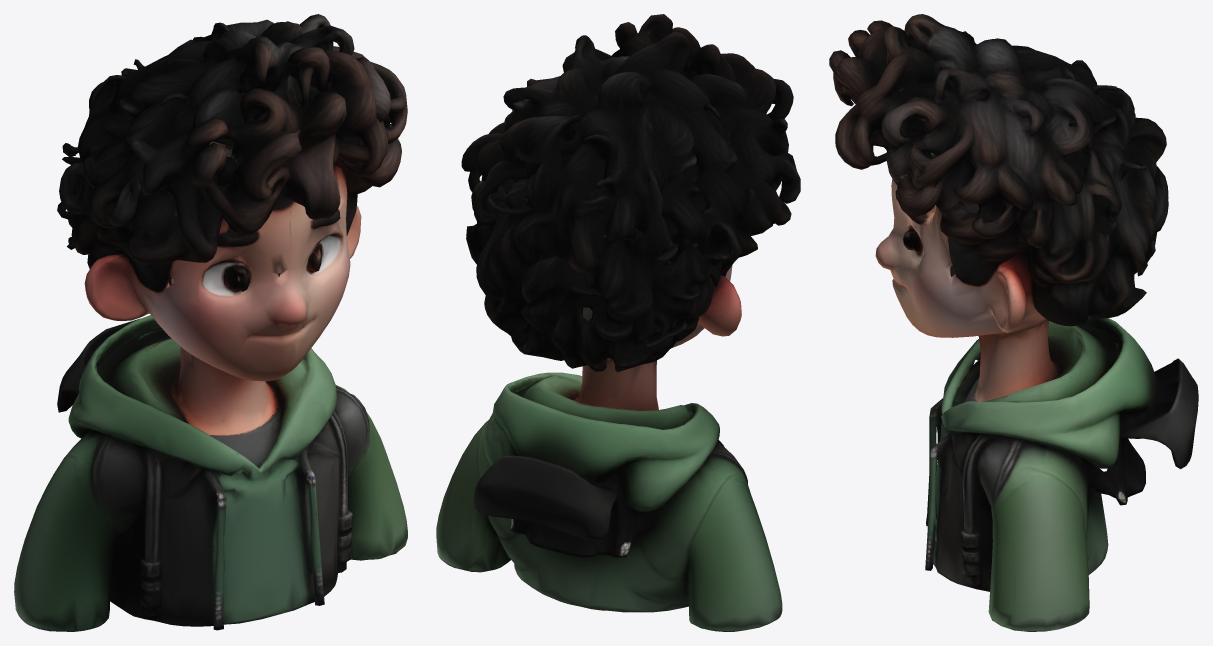
The model's file is garcon3Corrige.glb.
The picture shows the model from 3 angles, left to right: view 1: azimuth 30°, elevation 25°; view 2: azimuth 150°, elevation 25°; view 3: azimuth 270°, elevation 25°; orthographic projection. The views are drawn at different scales.
Parts seen in each view (by area): view 1: world; view 2: world; view 3: world.
Boxes of the visible parts, x1,y1,x2,y2 form: world: (14,14,407,631); world: (436,14,800,631); world: (829,14,1198,631).
Bounding box in the file's own units: 0.6804 × 1 × 0.6325.
Materials: 1 (1 with a texture image).
